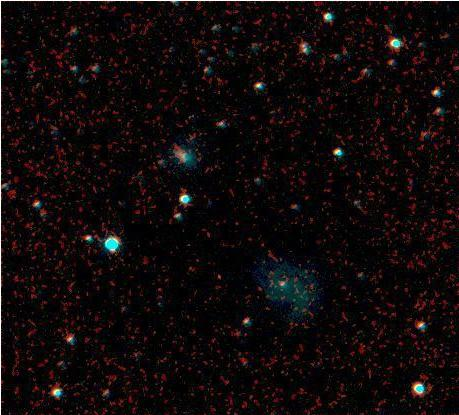star: (206, 255, 236, 285)
